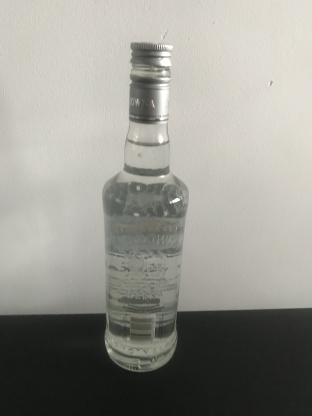nakretka: (126, 35, 174, 123)
